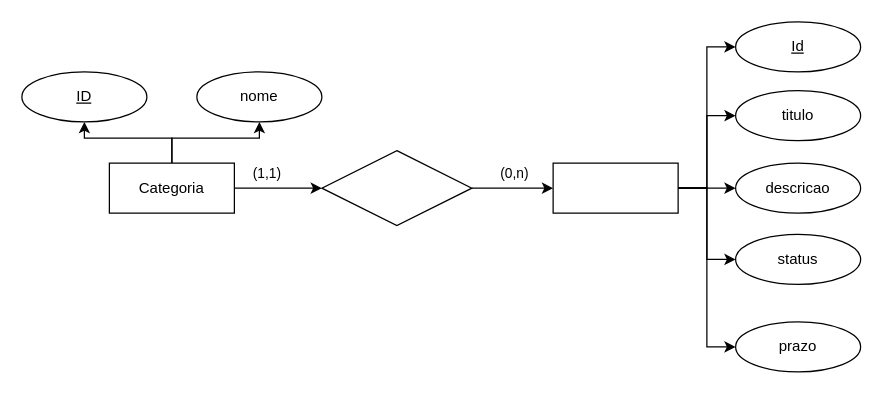
The diagram is 883 pixels wide and 394 high, and some of its shapes have lost their labels. Here are the shapes that lost their labels. From the top down, the centre of each, then its label:
the point at 396,187: Classifica
the point at 615,187: Entity
